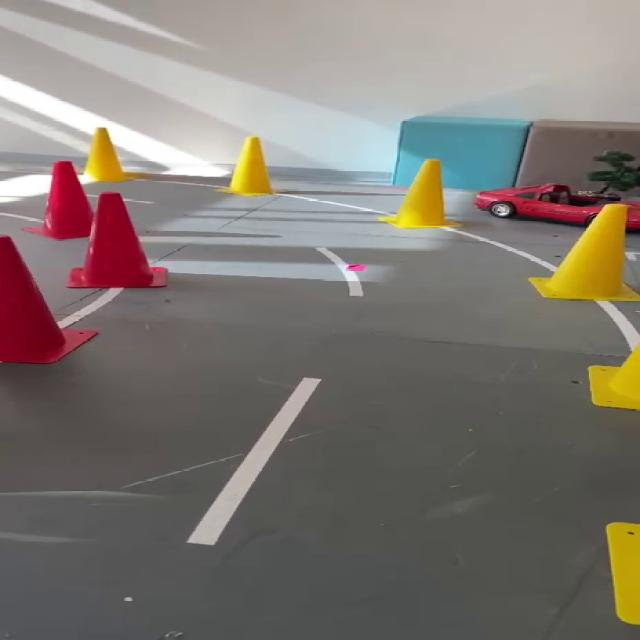Cone-red: (0, 235, 97, 363), (66, 192, 167, 288), (32, 161, 92, 239), (51, 168, 73, 205), (29, 220, 73, 238)
Cones-yellow: (530, 204, 639, 301), (381, 159, 452, 228), (607, 522, 639, 625), (589, 345, 639, 410), (86, 128, 143, 181), (225, 137, 273, 196)
